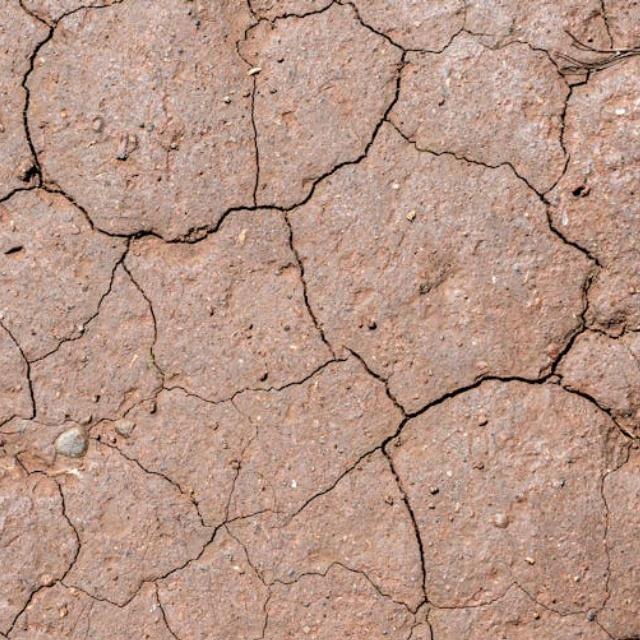细微裂纹: (0, 0, 83, 213)
网状裂隙: (0, 0, 640, 640)
